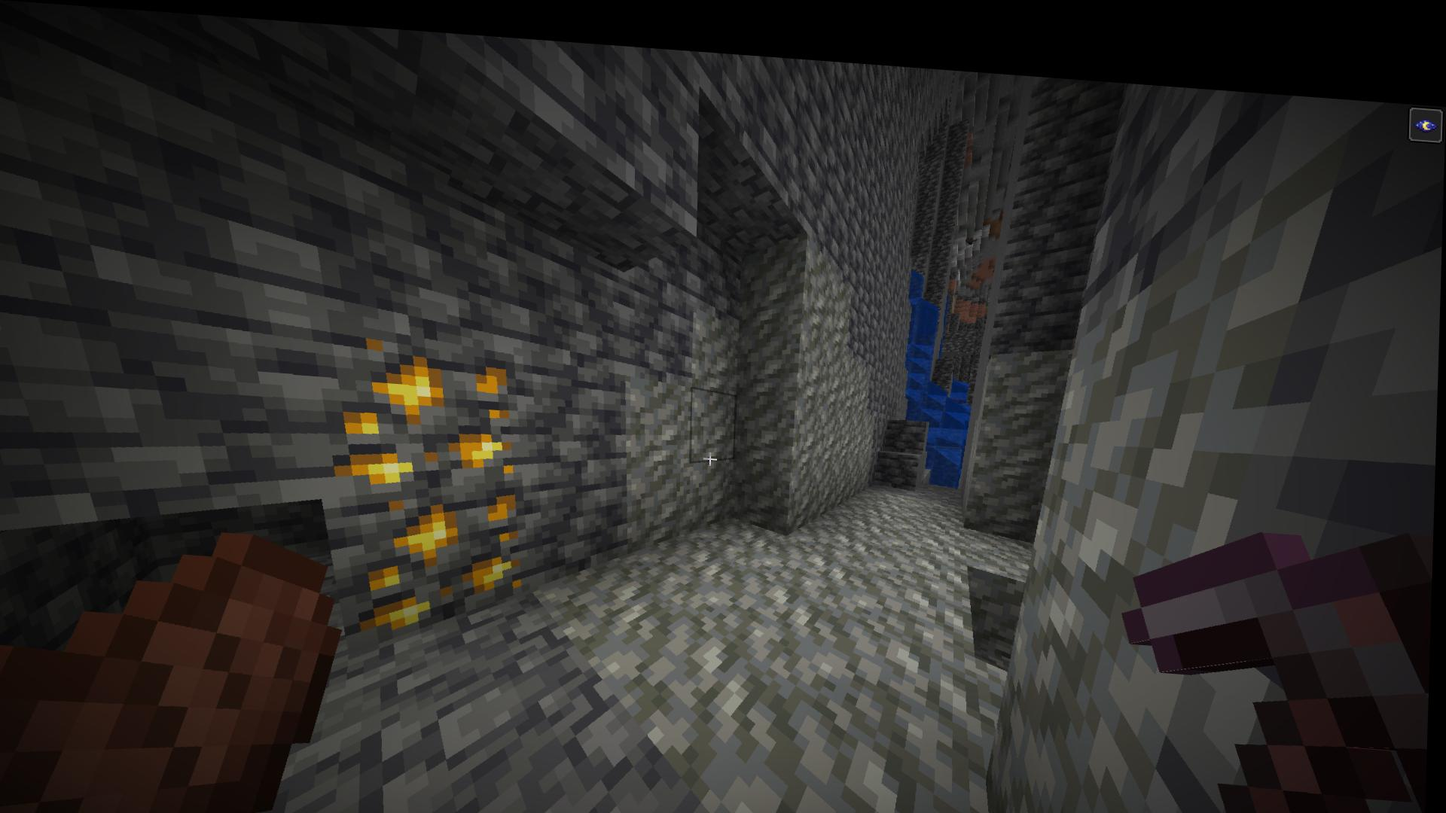gold ore: (327, 328, 520, 488), (362, 466, 527, 627)
